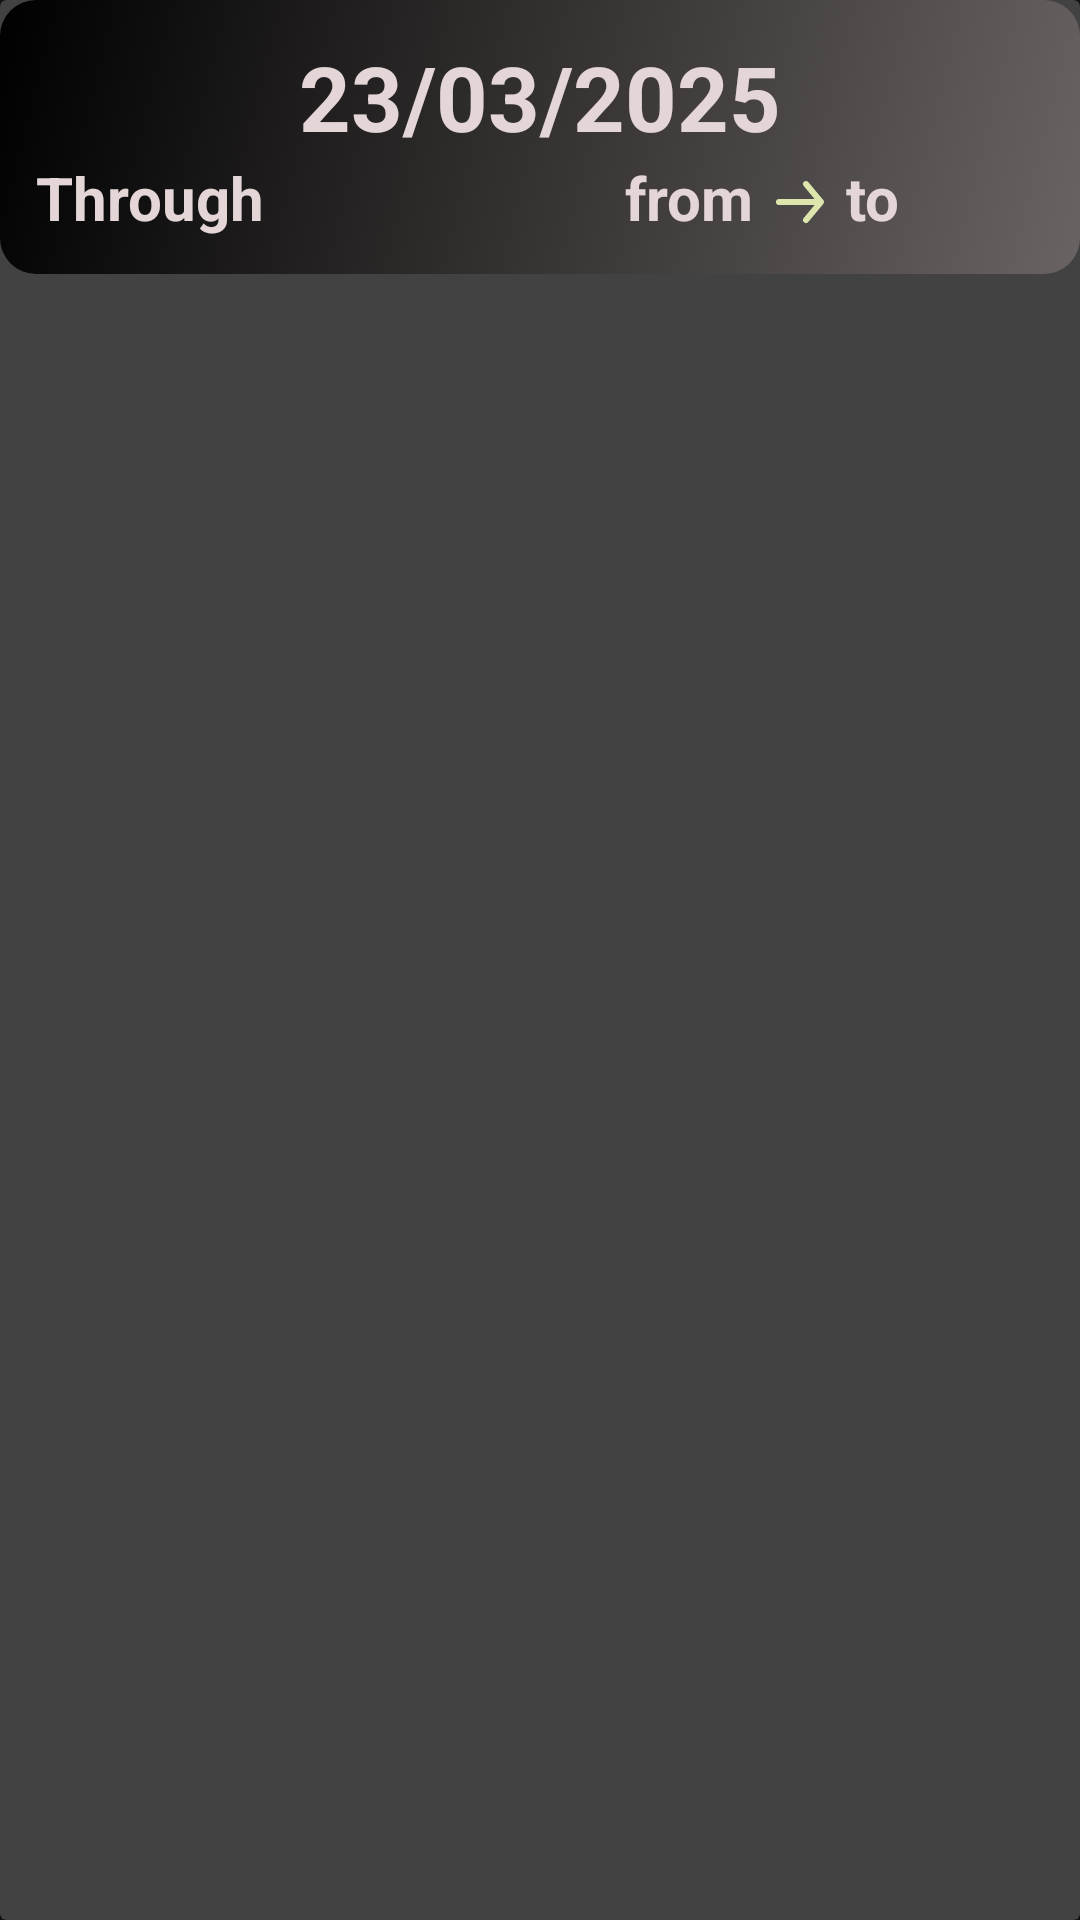

Point at icon controls on the screen. Image size 1080*1920, points as (x,y).
forward arrwo: (800,202)
